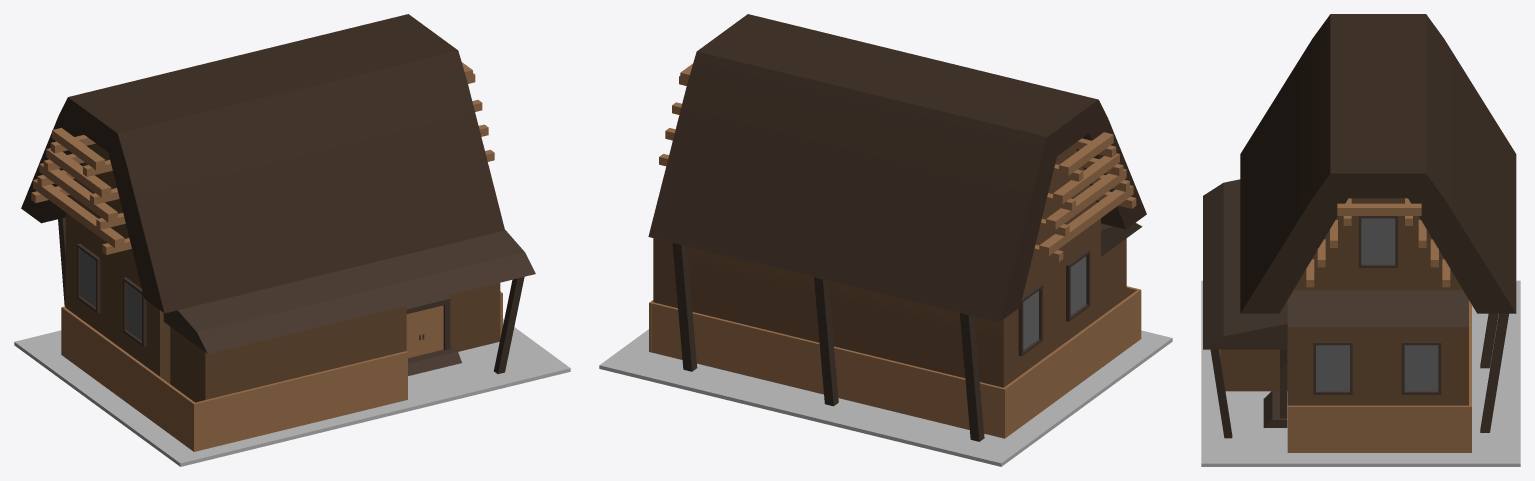
The model's file is house_large.fbx.
3 views of the same model, side by side, from view 1: azimuth 30°, elevation 25°; view 2: azimuth 150°, elevation 25°; view 3: azimuth 270°, elevation 25° (orthographic). The views are drawn at different scales.
Visible parts, largest first — view 1: house_large; view 2: house_large; view 3: house_large.
Boxes of the visible parts, bbox=[...] form: house_large: bbox=[14, 14, 570, 466]; house_large: bbox=[599, 14, 1172, 466]; house_large: bbox=[1201, 14, 1520, 466].
Size of the model in its own units: 24.62 by 16.26 by 17.31.
